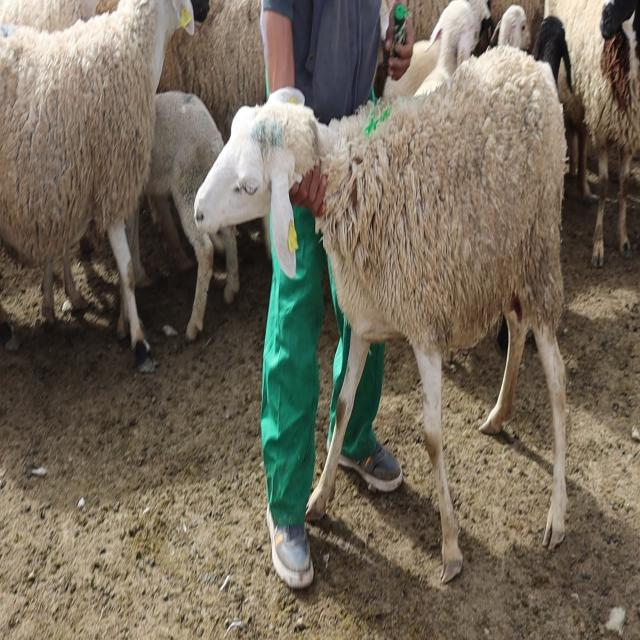Score_2: (194, 46, 567, 582)
